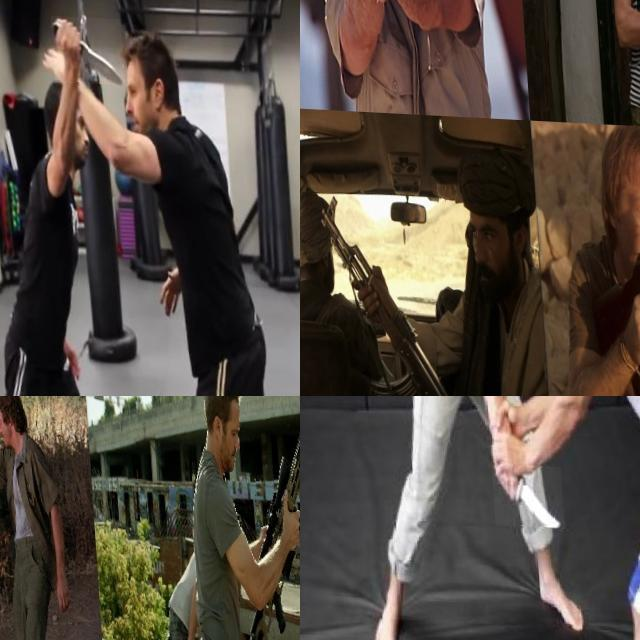-: (50, 13, 124, 82), (487, 460, 559, 526)
gun-knife-thesis - v11 Yolov5 augmented: (311, 193, 454, 396), (223, 396, 300, 640), (578, 198, 640, 383), (349, 0, 379, 46), (0, 416, 14, 454)
